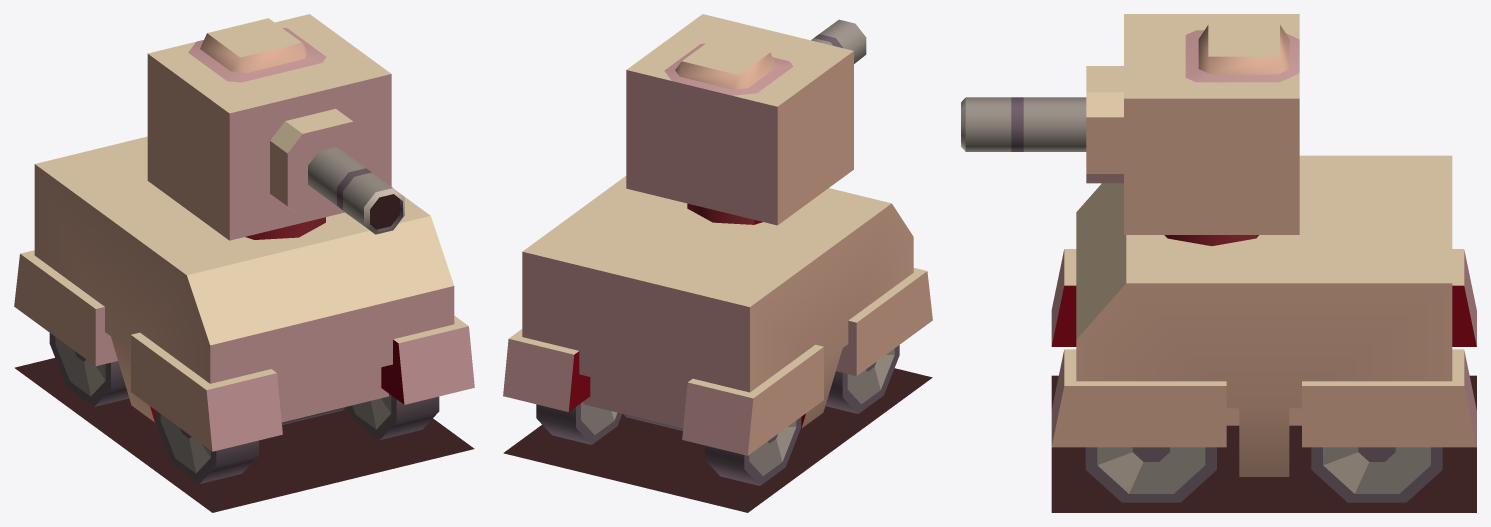
Rendered from ReconMesh.WhiteNova.glb.
The picture shows the model from 3 angles, left to right: view 1: azimuth 30°, elevation 25°; view 2: azimuth 150°, elevation 25°; view 3: azimuth 270°, elevation 25°; orthographic projection. The views are drawn at different scales.
Parts seen in each view (by area): view 1: ReconMesh.WhiteNova; view 2: ReconMesh.WhiteNova; view 3: ReconMesh.WhiteNova.
Part boxes in pixels (x1,y1,x2,y2): ReconMesh.WhiteNova: (14, 14, 474, 512); ReconMesh.WhiteNova: (503, 14, 932, 512); ReconMesh.WhiteNova: (961, 14, 1476, 512).
Bounding box in the file's own units: 1.3 × 1.79 × 2.06.
1 material, 1 textured.
